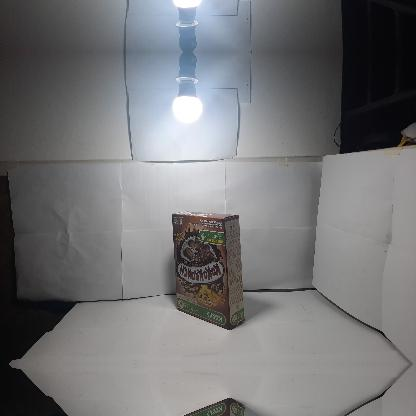Koko-Krunch: (172, 212, 244, 330)
